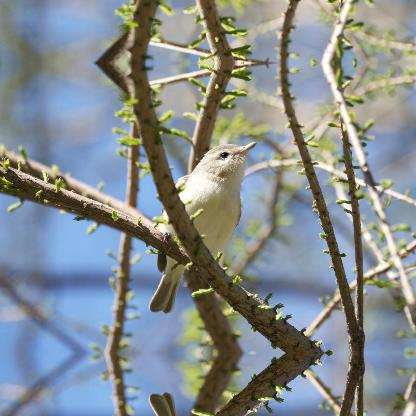Bird: (150, 140, 258, 314)
